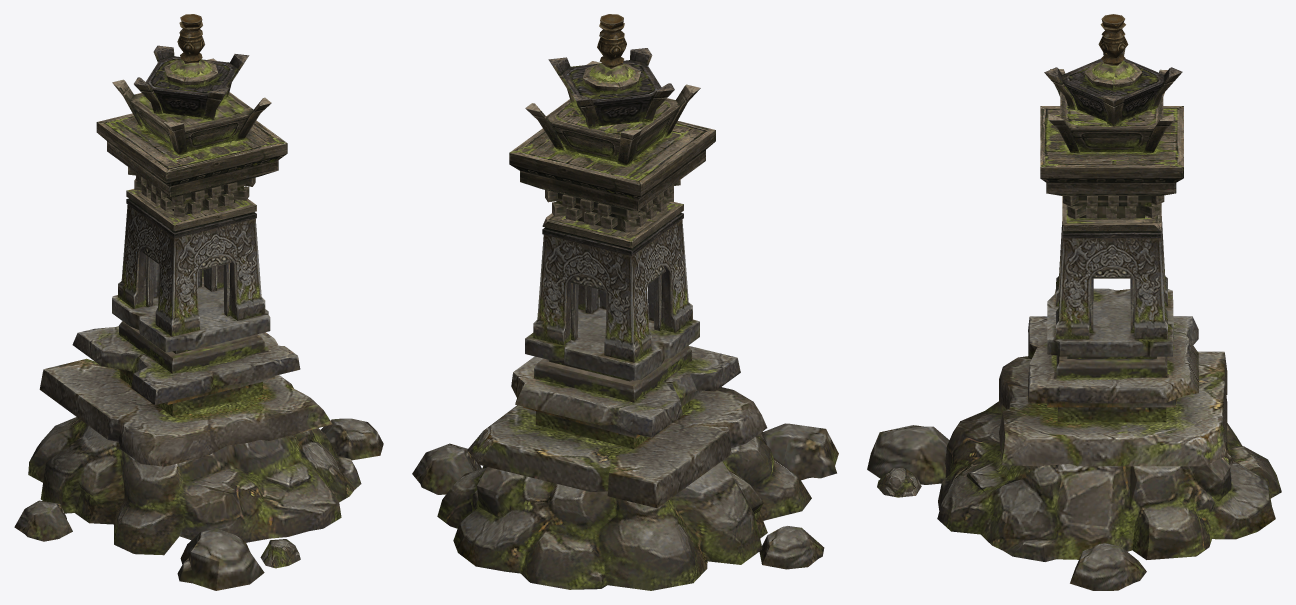
File: 4009_Item_shitai_1.FBX
The picture shows the model from 3 angles, left to right: view 1: azimuth 30°, elevation 25°; view 2: azimuth 150°, elevation 25°; view 3: azimuth 270°, elevation 25°; orthographic projection. The views are drawn at different scales.
Parts seen in each view (by area): view 1: 4009_Item_shitai_1; view 2: 4009_Item_shitai_1; view 3: 4009_Item_shitai_1.
Part boxes in pixels (bbox=[...]): 4009_Item_shitai_1: bbox=[14, 14, 383, 590]; 4009_Item_shitai_1: bbox=[412, 14, 838, 590]; 4009_Item_shitai_1: bbox=[867, 14, 1281, 590].
Bounding box in the file's own units: 241 × 296 × 231.
